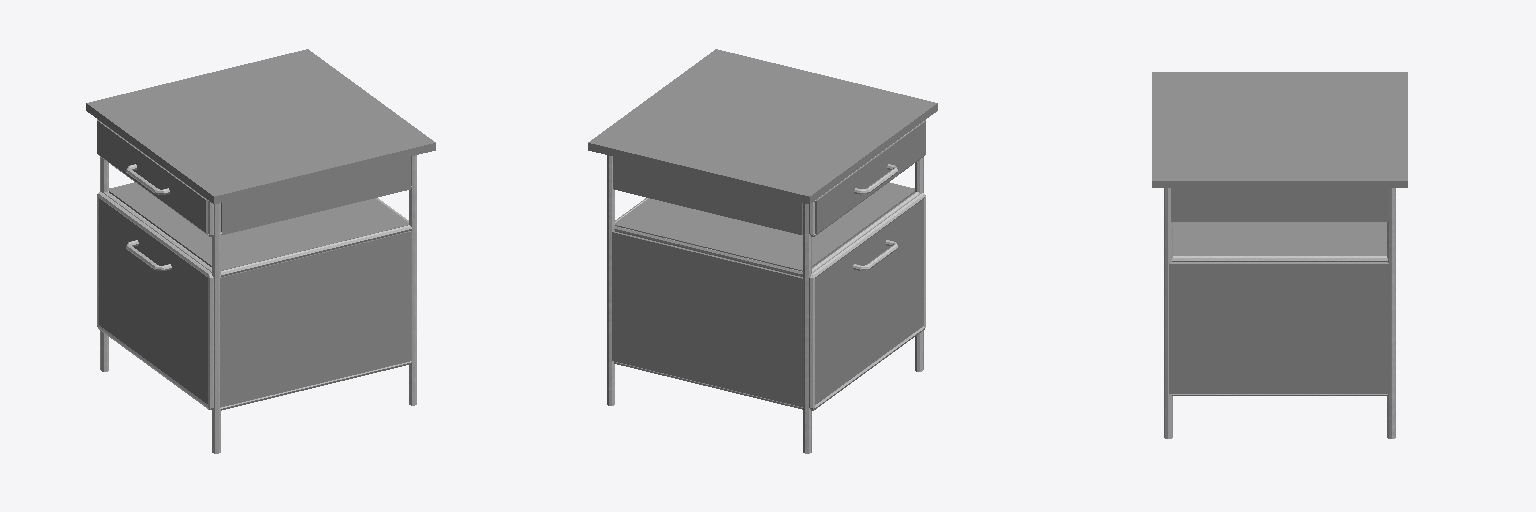
The picture shows the model from 3 angles: view 1: azimuth 30°, elevation 25°; view 2: azimuth 150°, elevation 25°; view 3: azimuth 270°, elevation 25°; orthographic projection.
Parts seen in each view (by area): view 1: Cube.002, Cube.001, Cylinder.006; view 2: Cube.002, Cube.001, Cylinder.006; view 3: Cube.002, Cube.001, Cylinder.006, Cylinder.003.
Boxes of the visible parts, x1=… form: Cube.002: x1=97, y1=120, x2=411, y2=407; Cube.001: x1=86, y1=49, x2=435, y2=203; Cylinder.006: x1=97, y1=119, x2=416, y2=453; Cube.002: x1=612, y1=121, x2=925, y2=407; Cube.001: x1=588, y1=49, x2=937, y2=203; Cylinder.006: x1=607, y1=120, x2=925, y2=453; Cube.002: x1=1169, y1=188, x2=1390, y2=393; Cube.001: x1=1152, y1=72, x2=1407, y2=187; Cylinder.006: x1=1164, y1=188, x2=1395, y2=438; Cylinder.003: x1=1165, y1=188, x2=1171, y2=438.
Size of the model in its own units: 2.09 by 2.27 by 2.
Materials: 4 (1 with a texture image).